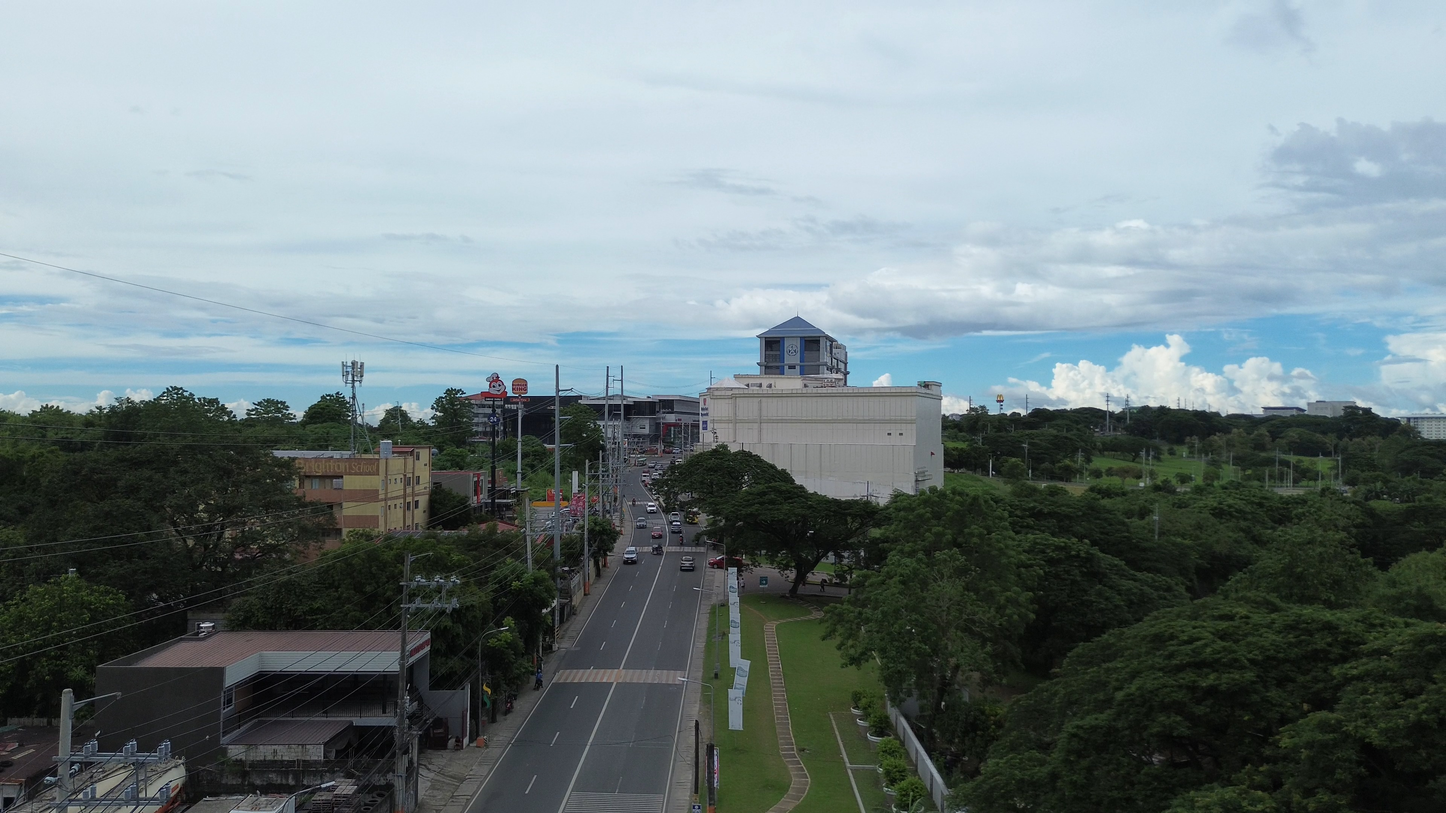car: (685, 510, 699, 524), (650, 527, 664, 538)
vehicle: (708, 556, 743, 568), (623, 546, 638, 564), (680, 556, 695, 571), (684, 510, 699, 524), (670, 519, 682, 532), (635, 517, 648, 528), (651, 544, 664, 555), (646, 502, 658, 513), (668, 512, 682, 521)
